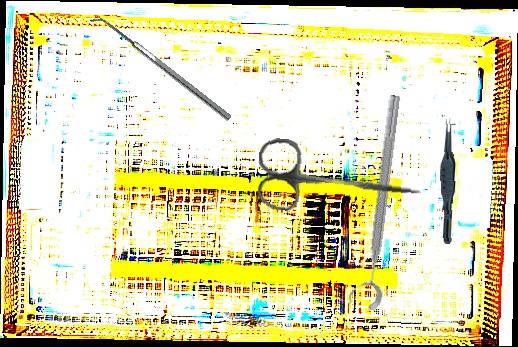Fixation Ring: (344, 92, 408, 312)
Iris Scissors: (253, 136, 426, 225)
Spatula Surgical: (89, 10, 232, 127)
Tissue Forceps: (438, 118, 459, 244)
